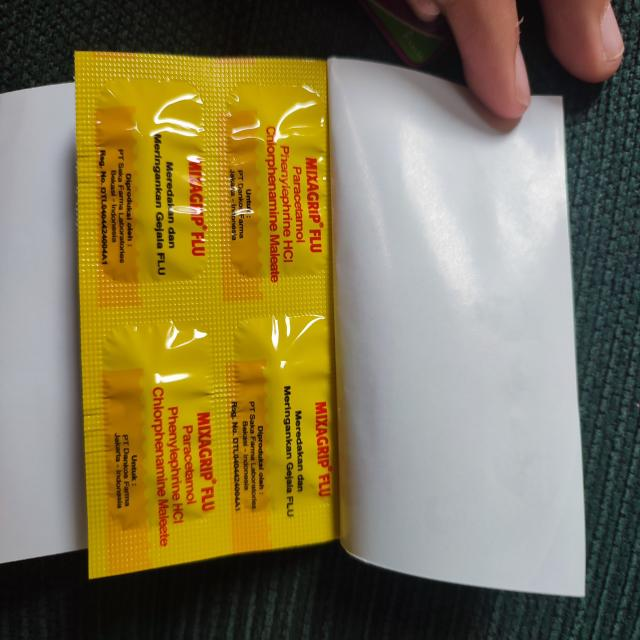B3: (0, 50, 585, 597)
